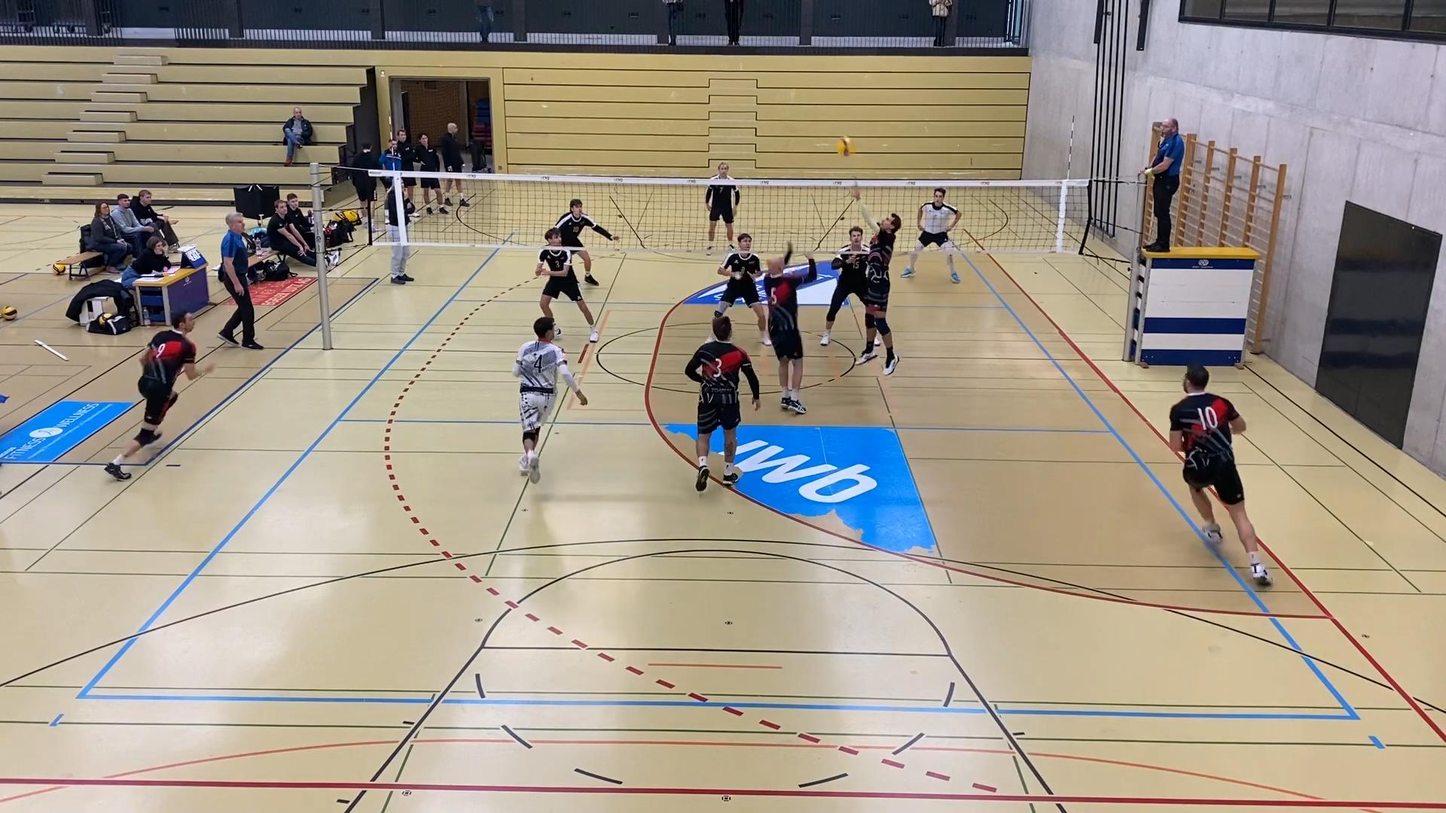alzata: (851, 205, 905, 377)
